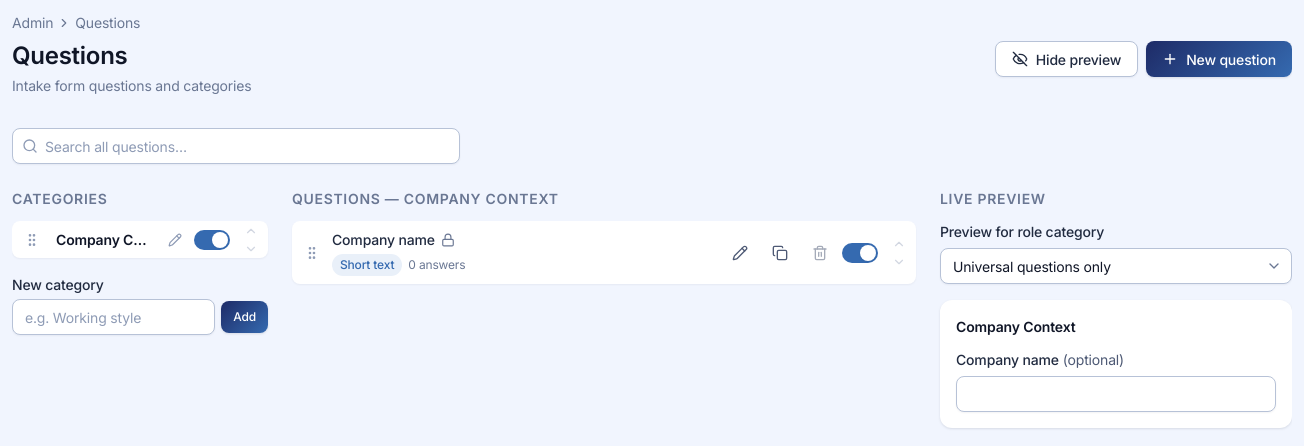
Scenario: the Questions page shows client questions only › keeps candidate questions out of the cross-category search
In the search field named "search questions": coordinates (236, 146) [12,128,460,164], type "name"
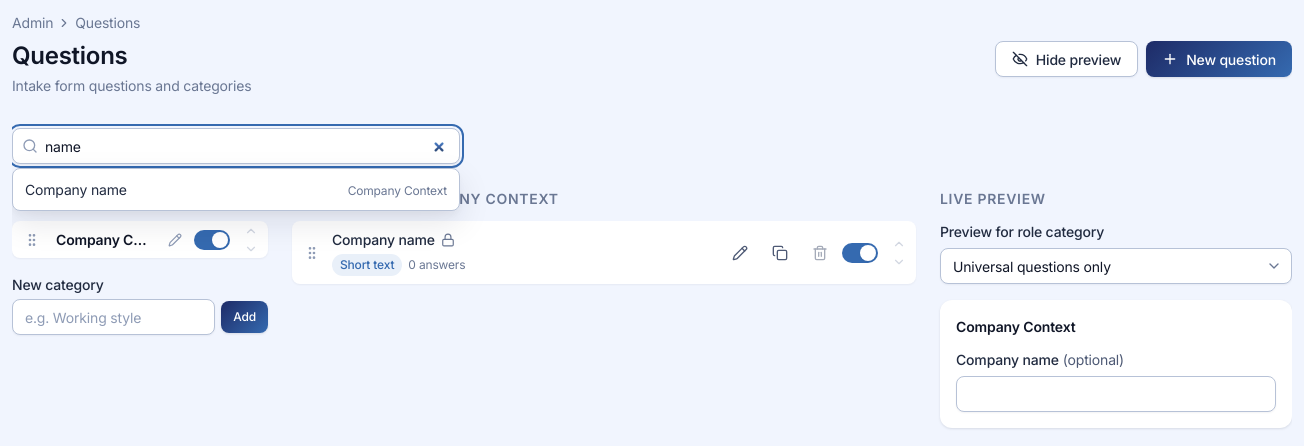
Result: the list named "matching questions" shows "Company name" at [13,173,459,206]
